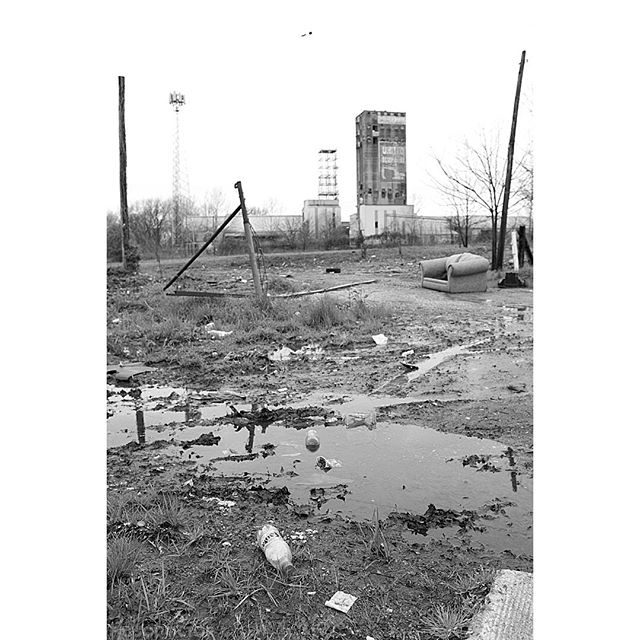building: (355, 108, 403, 228), (302, 196, 344, 247)
couch: (413, 243, 491, 300)
sky: (126, 46, 532, 198)
trash: (125, 312, 496, 580)
